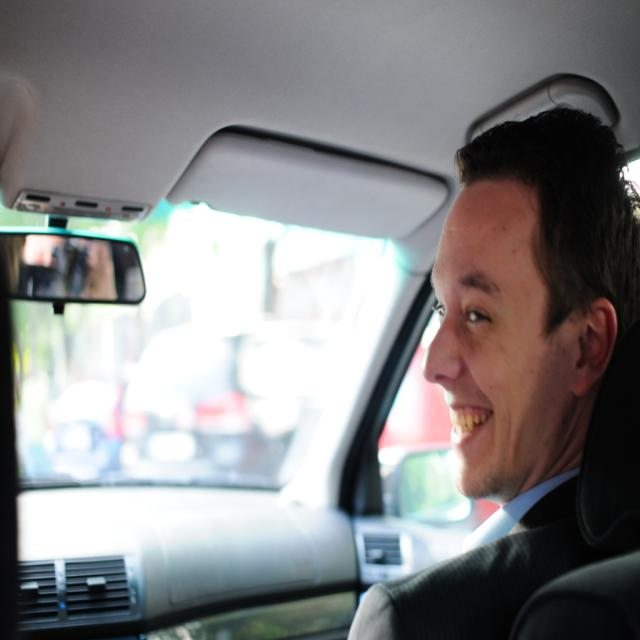car: (0, 86, 581, 638)
